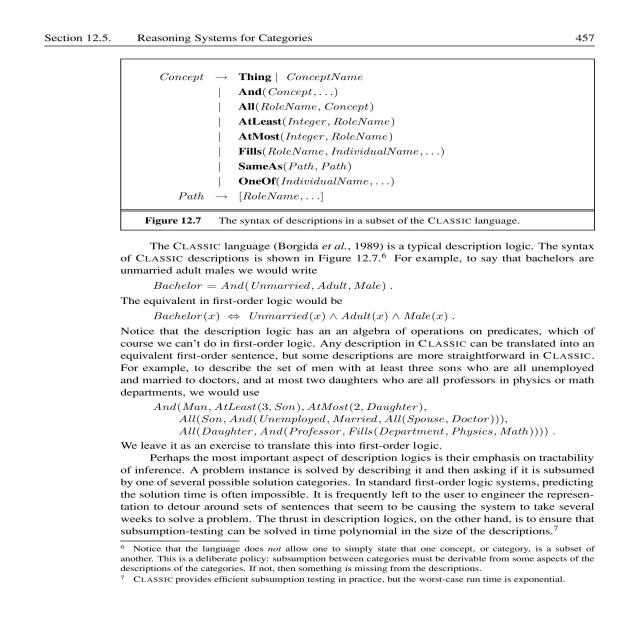diagram: (113, 58, 553, 213)
